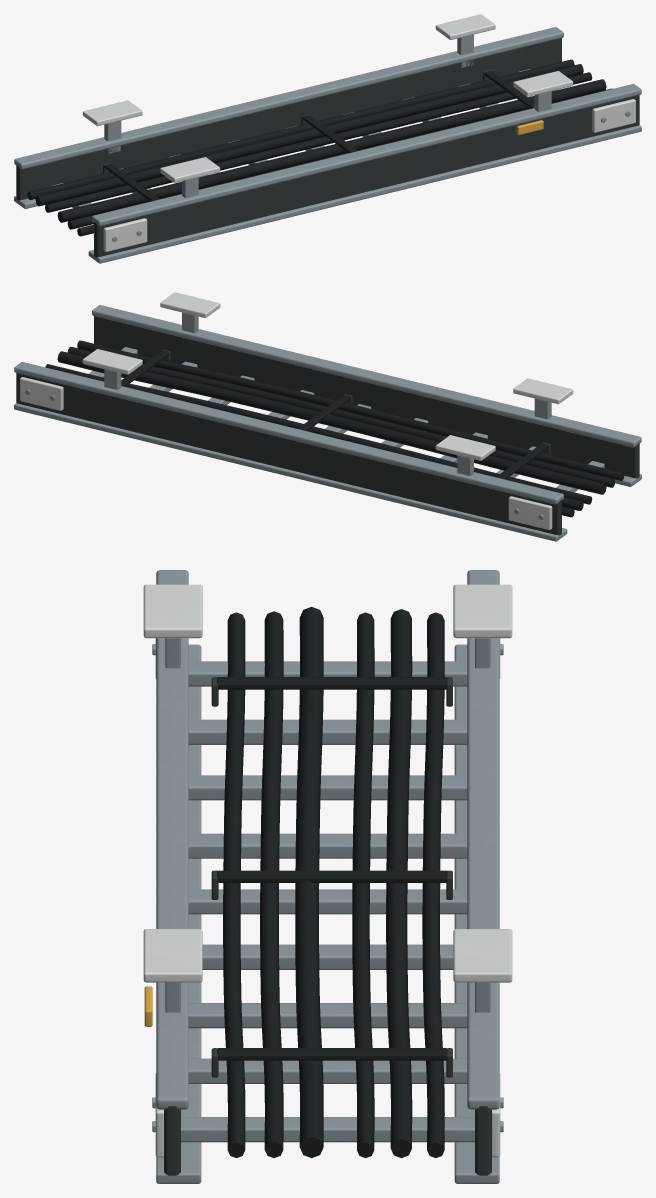
Rendered from 11_overhead_cable_tray.gltf.
The picture shows the model from 3 angles, top to bottom: view 1: azimuth 30°, elevation 25°; view 2: azimuth 150°, elevation 25°; view 3: azimuth 270°, elevation 25°; orthographic projection. The views are drawn at different scales.
Parts seen in each view (by area): view 1: 11_Cryo_Anodized_Frame, 11_Cryo_Brushed_Steel, 11_Cryo_EPDM_Gasket, 11_Cryo_Ceramic_Enamel; view 2: 11_Cryo_Anodized_Frame, 11_Cryo_Brushed_Steel, 11_Cryo_EPDM_Gasket, 11_Cryo_Ceramic_Enamel; view 3: 11_Cryo_Brushed_Steel, 11_Cryo_EPDM_Gasket, 11_Cryo_Ceramic_Enamel, 11_Cryo_Anodized_Frame.
Boxes of the visible parts, bbox=[...] form: 11_Cryo_Anodized_Frame: bbox=[16, 38, 639, 257]; 11_Cryo_Brushed_Steel: bbox=[14, 27, 641, 263]; 11_Cryo_EPDM_Gasket: bbox=[27, 59, 612, 236]; 11_Cryo_Ceramic_Enamel: bbox=[82, 14, 635, 251]; 11_Cryo_Anodized_Frame: bbox=[16, 316, 639, 535]; 11_Cryo_Brushed_Steel: bbox=[14, 305, 641, 541]; 11_Cryo_EPDM_Gasket: bbox=[45, 340, 624, 517]; 11_Cryo_Ceramic_Enamel: bbox=[20, 292, 573, 529]; 11_Cryo_Brushed_Steel: bbox=[152, 570, 503, 1183]; 11_Cryo_EPDM_Gasket: bbox=[217, 606, 447, 1158]; 11_Cryo_Ceramic_Enamel: bbox=[143, 584, 512, 1157]; 11_Cryo_Anodized_Frame: bbox=[164, 677, 491, 1175].
Bounding box in the file's own units: 2 × 0.2485 × 0.588.
Materials: 5 (4 with a texture image).
